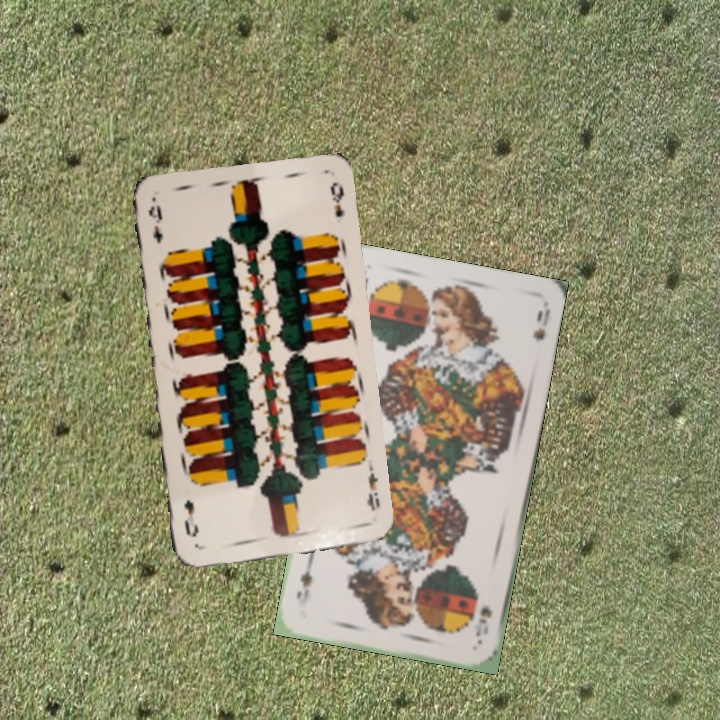E9: (144, 201, 166, 246), (363, 463, 382, 514)
SO: (470, 602, 494, 639)
